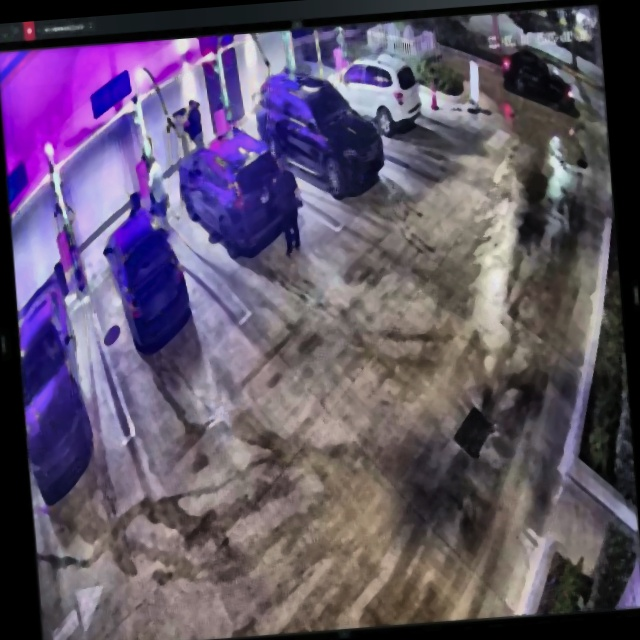Car: (251, 65, 386, 202), (176, 123, 300, 260), (102, 203, 192, 348)
